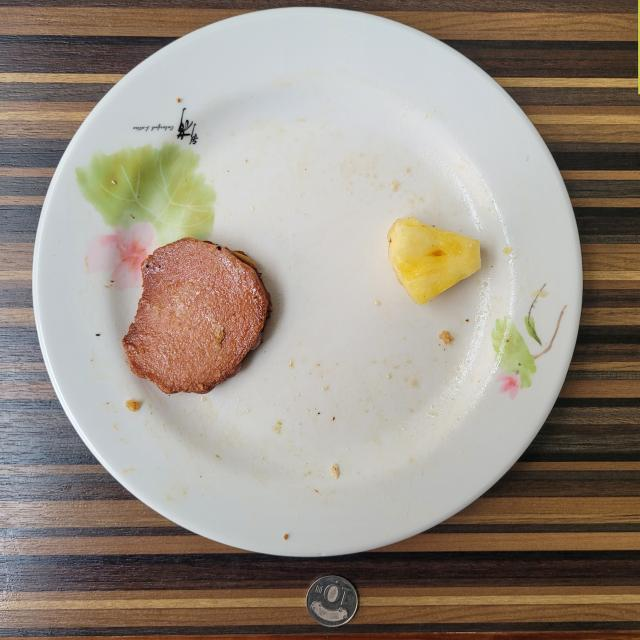Spam: (122, 238, 271, 394)
coin: (306, 575, 358, 628)
pineapple: (388, 218, 481, 305)
